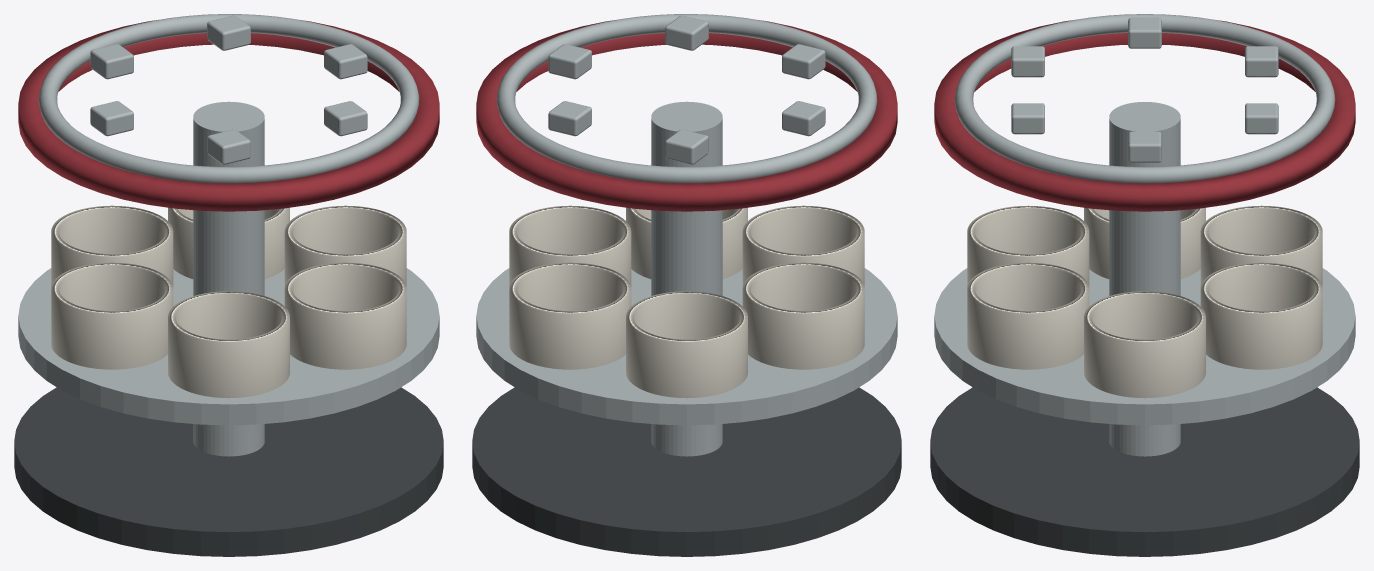
File: pneumatic-tube-mail-exchange-pneumatic-tube-mail-excha-1ed9ab25__32288.glb
The picture shows the model from 3 angles, left to right: view 1: azimuth 30°, elevation 25°; view 2: azimuth 150°, elevation 25°; view 3: azimuth 270°, elevation 25°; orthographic projection.
Parts seen in each view (by area): view 1: pneumatic-tube-mail-exchange-multi-carrier-loading-magazine_ (×4); view 2: pneumatic-tube-mail-exchange-multi-carrier-loading-magazine_ (×4); view 3: pneumatic-tube-mail-exchange-multi-carrier-loading-magazine_ (×4).
Boxes of the visible parts, <box> form: pneumatic-tube-mail-exchange-multi-carrier-loading-magazine_ (×4): <box>14,14,443,556</box>; pneumatic-tube-mail-exchange-multi-carrier-loading-magazine_ (×4): <box>472,14,901,556</box>; pneumatic-tube-mail-exchange-multi-carrier-loading-magazine_ (×4): <box>930,14,1359,556</box>.
Bounding box in the file's own units: 1.02 × 1.01 × 1.02.
